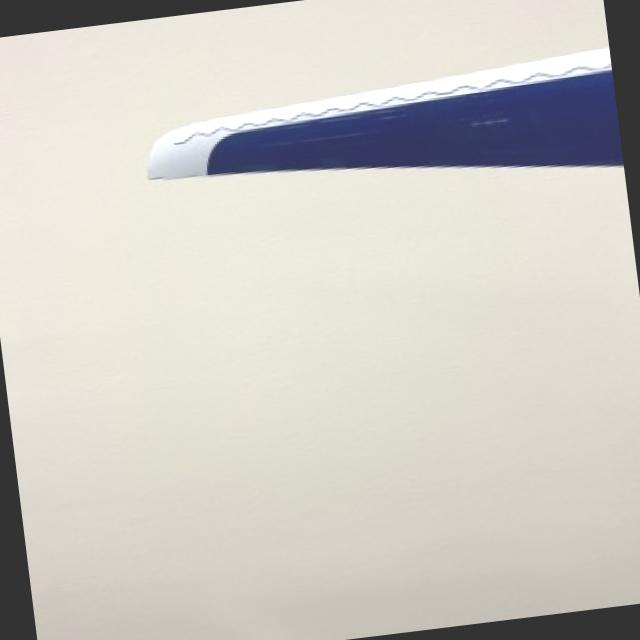healthy: (149, 46, 623, 177)
